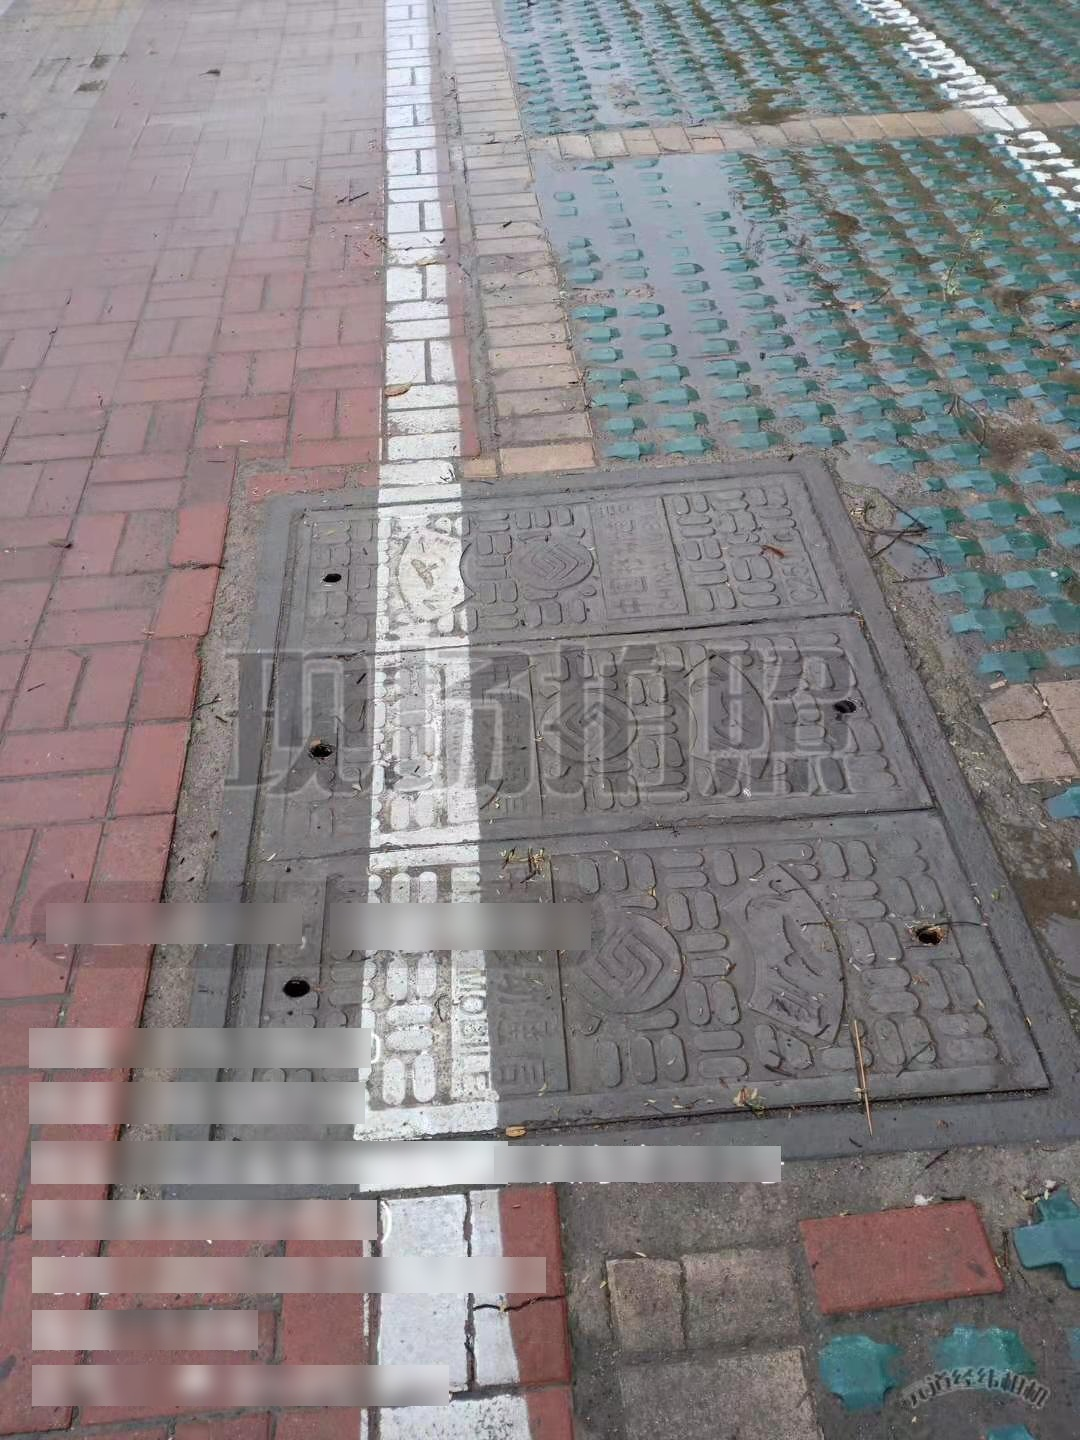good: (158, 459, 1080, 1218)
